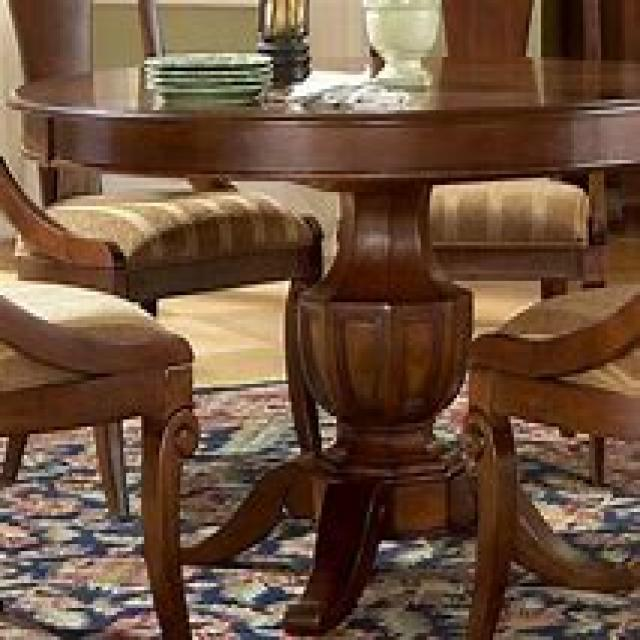chair: (0, 0, 325, 516)
table: (6, 53, 637, 633)
